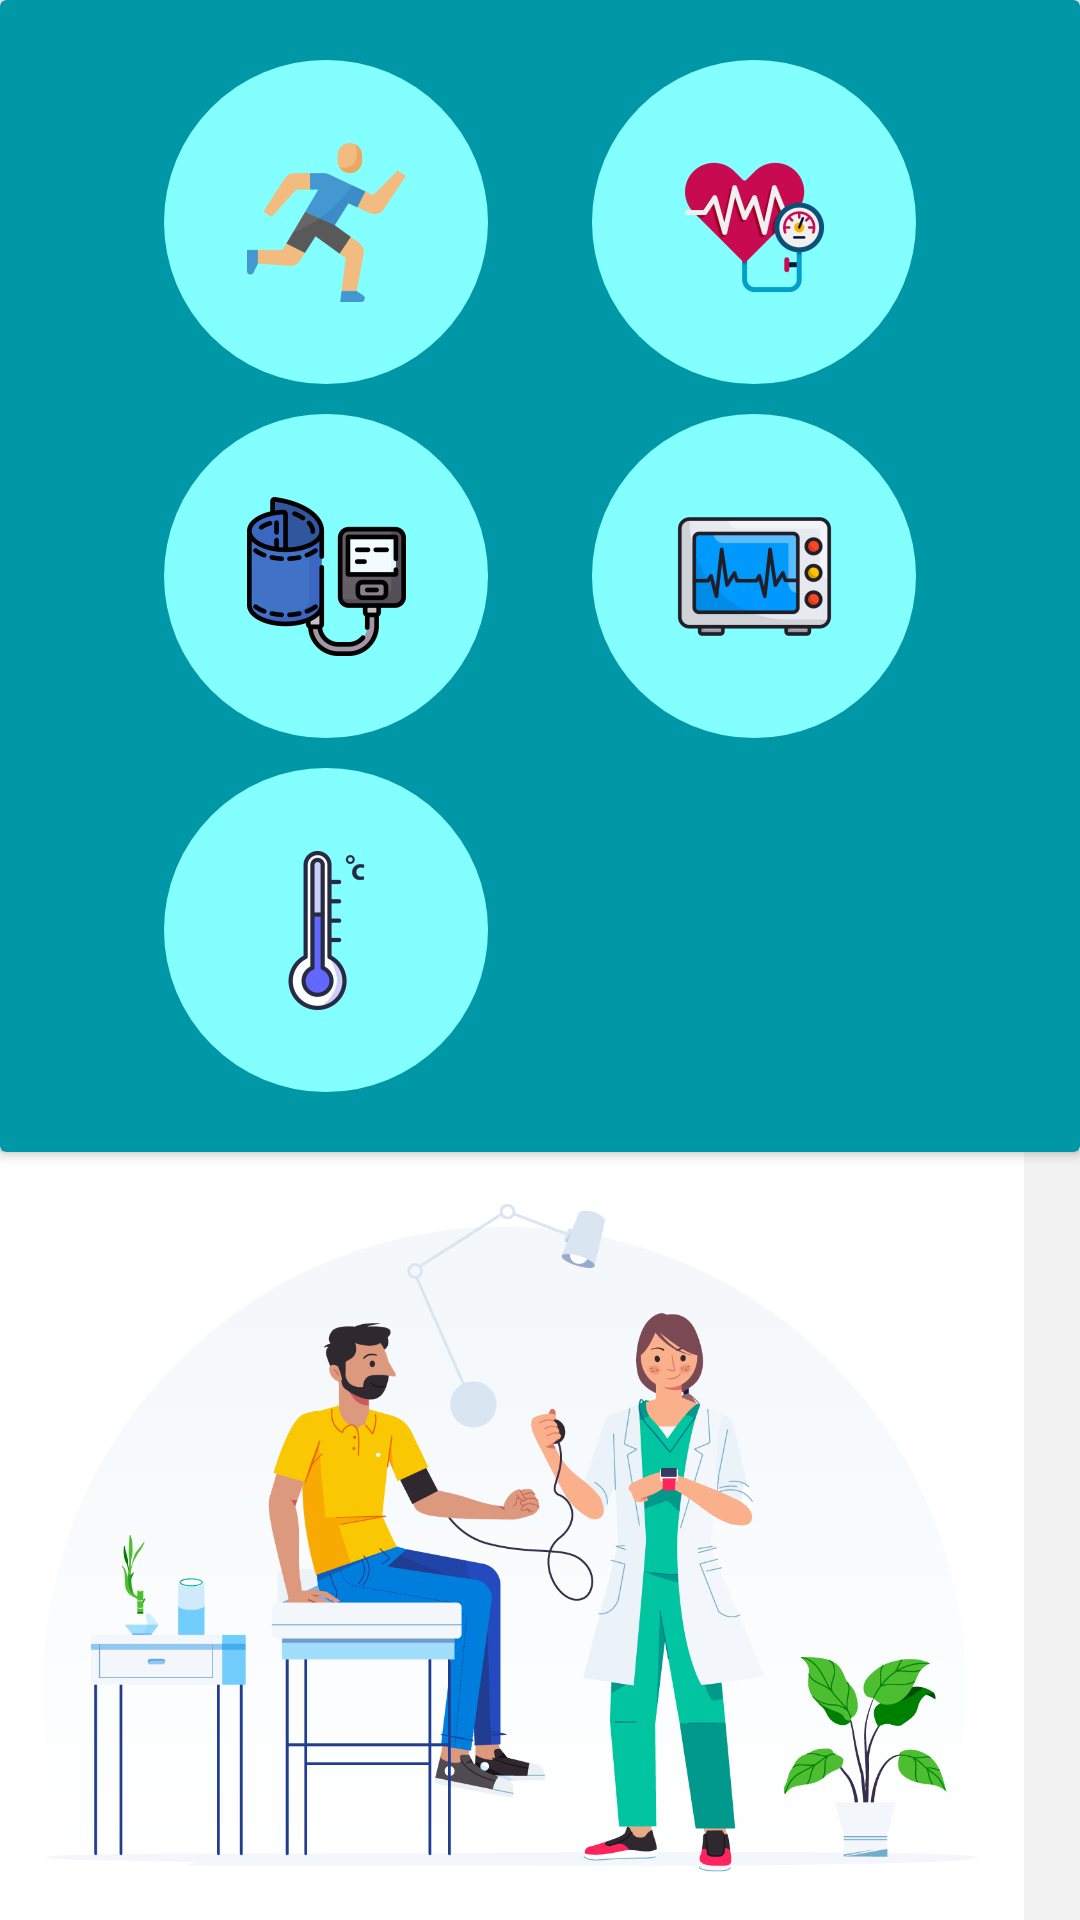

Screen size 1080px x 1920px. Icon name, then its center in pixels as [x,y]:
blood pressure: [326,576]
ecg: [754,576]
heart rate: [754,222]
steps counter: [326,222]
thermo: [326,930]
